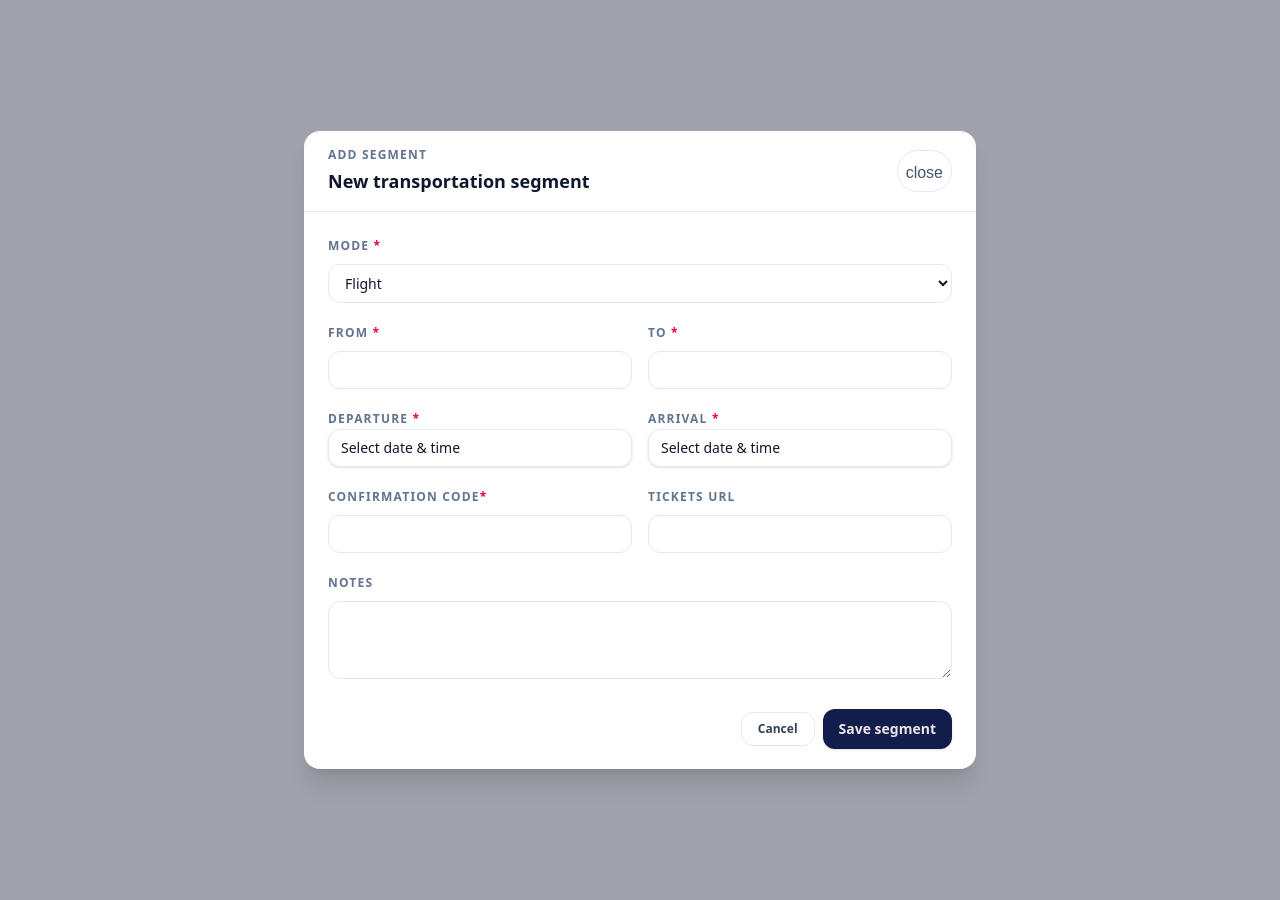
Scenario: AddSegmentModal › shows required validation errors
This screenshot has width=1280, height=900.
Click the button "Save segment" at (887, 729), box [822,709,952,749]
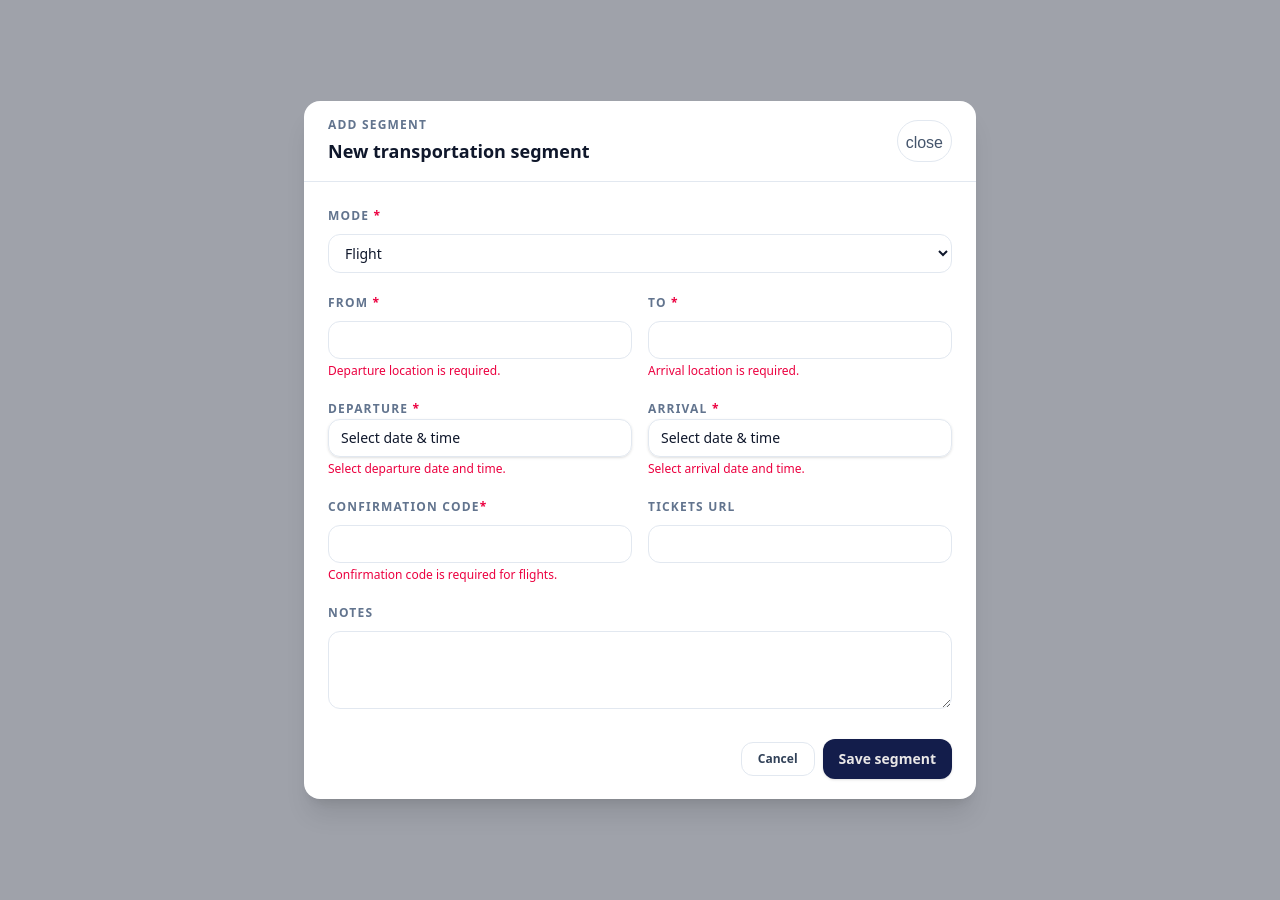
Result: the text "Departure location is required." is shown at [328,362,500,379]
Result: the text "Arrival location is required." is shown at [648,362,799,379]
Result: the text "Select departure date and time." is shown at [328,460,506,477]
